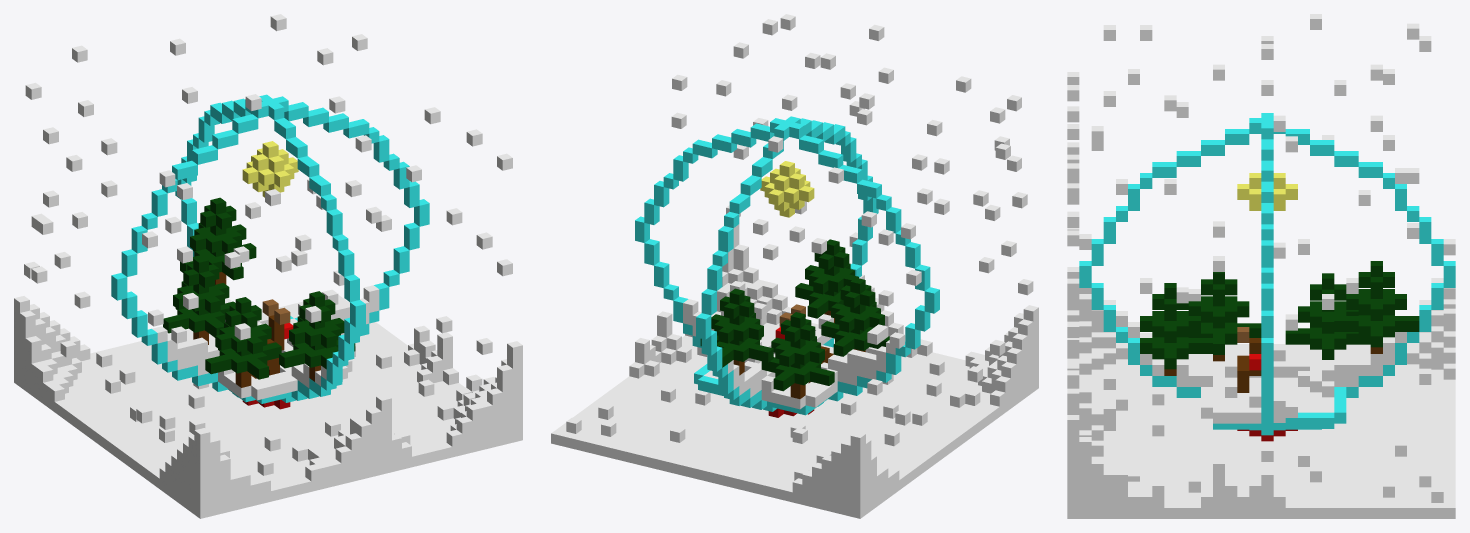
Rendered from snow-globe.gltf.
The picture shows the model from 3 angles, left to right: view 1: azimuth 30°, elevation 25°; view 2: azimuth 150°, elevation 25°; view 3: azimuth 270°, elevation 25°; orthographic projection. The views are drawn at different scales.
Parts seen in each view (by area): view 1: xmas.001; view 2: xmas.001; view 3: xmas.001.
Boxes of the visible parts, x1,y1,x2,y2 form: xmas.001: [14, 14, 522, 518]; xmas.001: [551, 14, 1038, 518]; xmas.001: [1067, 14, 1455, 518].
Size of the model in its own units: 3.2 by 3.2 by 3.2.
Materials: 1 (1 with a texture image).
